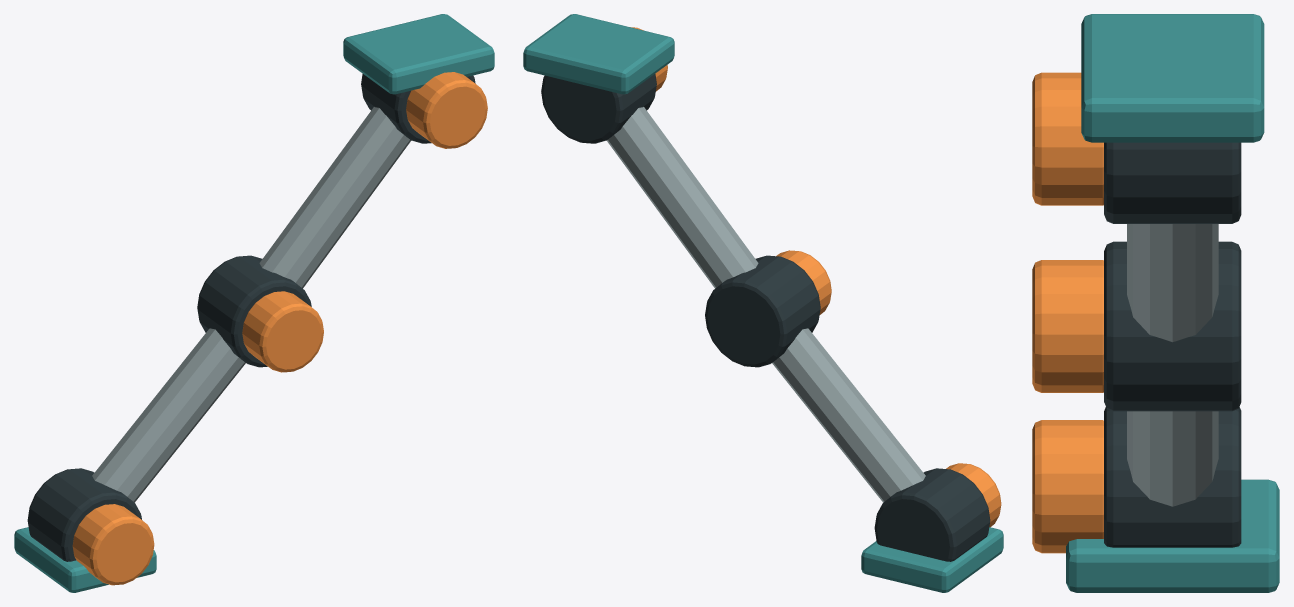
File: P082_articulating_arm.glb
3 views of the same model, side by side, from view 1: azimuth 30°, elevation 25°; view 2: azimuth 150°, elevation 25°; view 3: azimuth 270°, elevation 25° (orthographic). The views are drawn at different scales.
Parts seen in each view (by area): view 1: P082_upper_arm_002, P082_lower_arm_001, P082_mount_b_010, P082_joint_005, P082_knob_006, P082_joint_003, P082_knob_004, P082_knob_008, P082_mount_a_009, P082_joint_007; view 2: P082_upper_arm_002, P082_lower_arm_001, P082_joint_005, P082_mount_b_010, P082_joint_003, P082_joint_007, P082_mount_a_009, P082_knob_006, P082_knob_004; view 3: P082_mount_b_010, P082_joint_005, P082_mount_a_009, P082_joint_003, P082_joint_007, P082_upper_arm_002, P082_knob_006, P082_knob_004, P082_knob_008, P082_lower_arm_001.
Part boxes in pixels (x1=…): P082_upper_arm_002: x1=259, y1=107, x2=411, y2=288; P082_lower_arm_001: x1=92, y1=328, x2=245, y2=502; P082_mount_b_010: x1=343, y1=14, x2=494, y2=94; P082_joint_005: x1=197, y1=255, x2=311, y2=367; P082_knob_006: x1=242, y1=291, x2=323, y2=372; P082_joint_003: x1=27, y1=468, x2=141, y2=561; P082_knob_004: x1=72, y1=504, x2=154, y2=585; P082_knob_008: x1=406, y1=72, x2=487, y2=148; P082_mount_a_009: x1=14, y1=527, x2=156, y2=592; P082_joint_007: x1=361, y1=74, x2=475, y2=143; P082_upper_arm_002: x1=606, y1=107, x2=758, y2=288; P082_lower_arm_001: x1=772, y1=328, x2=925, y2=502; P082_joint_005: x1=705, y1=255, x2=820, y2=367; P082_mount_b_010: x1=523, y1=14, x2=674, y2=94; P082_joint_003: x1=874, y1=468, x2=990, y2=561; P082_joint_007: x1=541, y1=74, x2=656, y2=143; P082_mount_a_009: x1=861, y1=527, x2=1003, y2=592; P082_knob_006: x1=776, y1=250, x2=831, y2=314; P082_knob_004: x1=946, y1=463, x2=1001, y2=527; P082_mount_b_010: x1=1081, y1=14, x2=1264, y2=142; P082_joint_005: x1=1104, y1=241, x2=1241, y2=411; P082_mount_a_009: x1=1066, y1=479, x2=1279, y2=592; P082_joint_003: x1=1104, y1=407, x2=1241, y2=547; P082_joint_007: x1=1104, y1=142, x2=1241, y2=223; P082_upper_arm_002: x1=1127, y1=224, x2=1218, y2=342; P082_knob_006: x1=1032, y1=260, x2=1103, y2=392; P082_knob_004: x1=1032, y1=420, x2=1103, y2=553; P082_knob_008: x1=1032, y1=72, x2=1103, y2=205; P082_lower_arm_001: x1=1127, y1=411, x2=1218, y2=506.
Bounding box in the file's own units: 0.294 × 0.29 × 0.081.
